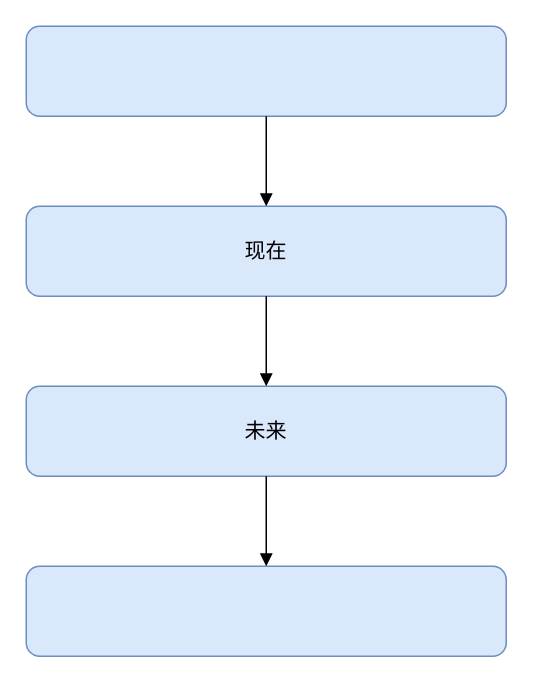
Some shapes in this 533 by 683 pixel diagram are drawn without their labels. The centre of each missing label's shape, as x and y in pixels:
"回到过去" goes at [265,610].
"过去" goes at [265,70].
